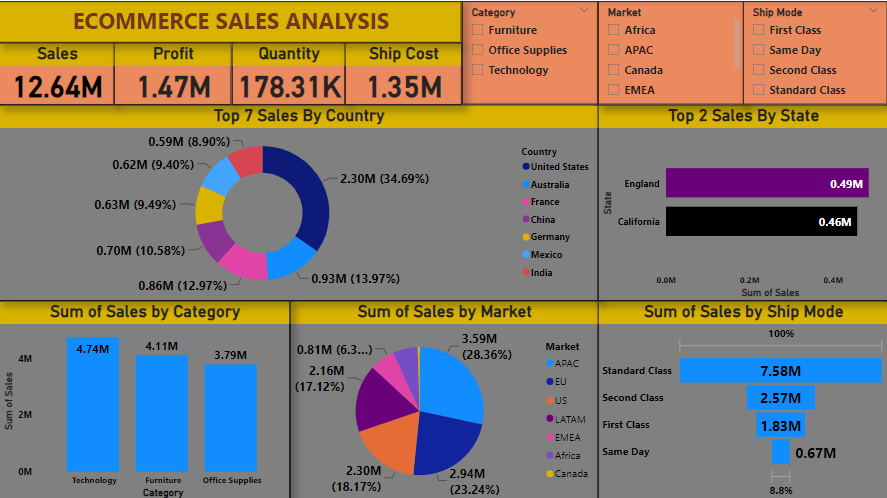

What the dashboard file says about the page in this screenshot:
{"tool":"powerbi","page":{"name":"SALES REPORT","canvas":[1280,720],"ordinal":1},"visuals":[{"type":"slicer","fields":{"Values":["Orders.Category"]},"box":[666,0,196.3,149.3],"z":0},{"type":"pieChart","fields":{"Category":["Orders.Market"],"Y":["Sum(Orders.Sales)"]},"box":[417.6,432,443.5,288],"z":1000},{"type":"columnChart","fields":{"Category":["Orders.Category"],"Y":["Sum(Orders.Sales)"]},"box":[0,432,419,288],"z":2000},{"type":"funnel","fields":{"Category":["Orders.Ship Mode"],"Y":["Sum(Orders.Sales)"]},"box":[862.6,432,417.6,288],"z":3000},{"type":"donutChart","title":"Top 7 Sales By Country","fields":{"Category":["Orders.Country"],"Y":["Sum(Orders.Sales)"]},"box":[0,149.8,862.6,282.2],"z":4000},{"type":"barChart","title":"Top 2 Sales By State","fields":{"Category":["Orders.State"],"Y":["Sum(Orders.Sales)"]},"box":[862.3,149.3,417.7,281.8],"z":5000},{"type":"card","title":"Sales","fields":{"Values":["Sum(Orders.Sales)"]},"box":[0,60.4,166.1,88.9],"z":6000},{"type":"card","title":"Profit","fields":{"Values":["Sum(Orders.Profit)"]},"box":[166.1,60.4,169.4,88.9],"z":7000},{"type":"card","title":"Quantity","fields":{"Values":["Sum(Orders.Quantity)"]},"box":[335.5,60.4,162.7,88.9],"z":8000},{"type":"card","title":"Ship Cost","fields":{"Values":["Sum(Orders.Shipping Cost)"]},"box":[498.2,60.4,167.8,88.9],"z":9000},{"type":"slicer","fields":{"Values":["Orders.Market"]},"box":[862.3,0,209.7,149.3],"z":10000},{"type":"slicer","fields":{"Values":["Orders.Ship Mode"]},"box":[1072,0,208,149.3],"z":11000},{"type":"textbox","box":[0,0,666,60.4],"z":12000}]}

Visuals, with their boxes in screenshot pixels (x1, y1, x2, y2), scaled from the page's 1280x720 canvas onto the 887x498 screenshot:
slicer - Orders.Category: x1=462 y1=0 x2=598 y2=103
pieChart - Orders.Market x Sum(Orders.Sales): x1=289 y1=299 x2=597 y2=497
columnChart - Orders.Category x Sum(Orders.Sales): x1=0 y1=299 x2=290 y2=497
funnel - Orders.Ship Mode x Sum(Orders.Sales): x1=598 y1=299 x2=886 y2=497
"Top 7 Sales By Country" donutChart: x1=0 y1=104 x2=598 y2=299
"Top 2 Sales By State" barChart: x1=598 y1=103 x2=886 y2=298
"Sales" card: x1=0 y1=42 x2=115 y2=103
"Profit" card: x1=115 y1=42 x2=232 y2=103
"Quantity" card: x1=232 y1=42 x2=345 y2=103
"Ship Cost" card: x1=345 y1=42 x2=462 y2=103
slicer - Orders.Market: x1=598 y1=0 x2=743 y2=103
slicer - Orders.Ship Mode: x1=743 y1=0 x2=886 y2=103
textbox: x1=0 y1=0 x2=462 y2=42
